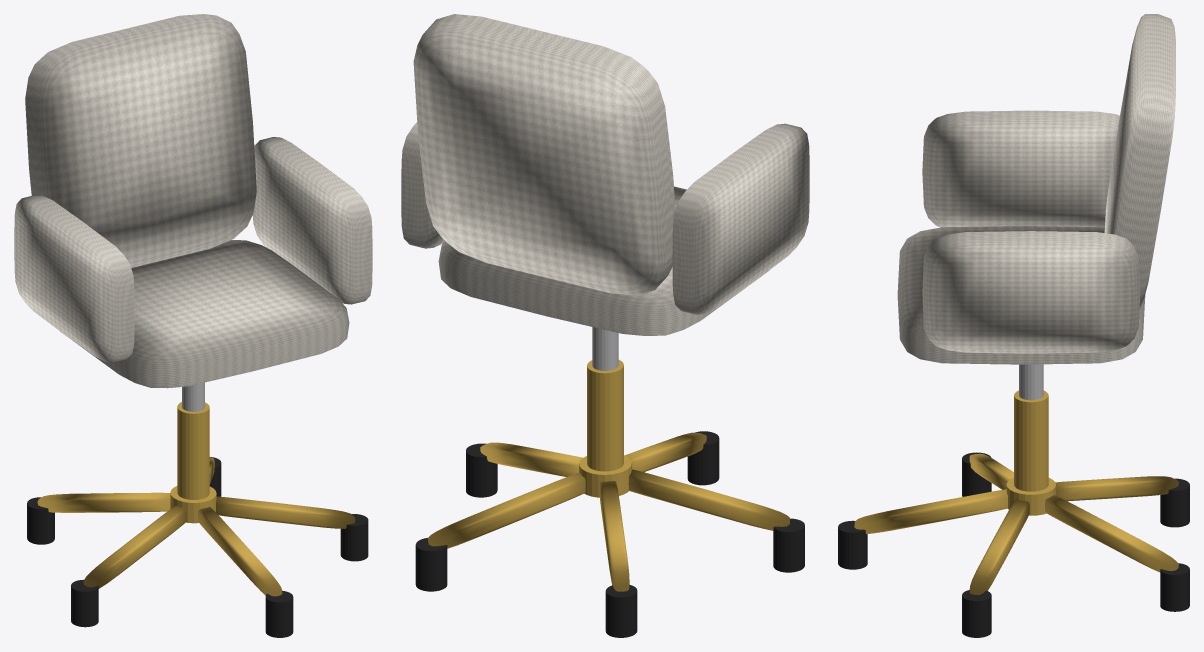
3 views of the same model, side by side, from view 1: azimuth 30°, elevation 25°; view 2: azimuth 150°, elevation 25°; view 3: azimuth 270°, elevation 25° (orthographic). The views are drawn at different scales.
Visible parts, largest first — view 1: 2 backrest, 1 seat, 3 left_armrest, 4 right_armrest, 7 gas_lift_lower, 10 base_spoke_2, 12 base_spoke_4, 13 base_spoke_5, 9 base_spoke_1, 14 wheel_1, 18 wheel_5, 15 wheel_2 (+3 smaller); view 2: 2 backrest, 3 left_armrest, 1 seat, 7 gas_lift_lower, 11 base_spoke_3, 13 base_spoke_5, 4 right_armrest, 12 base_spoke_4, 10 base_spoke_2, 9 base_spoke_1, 17 wheel_4, 16 wheel_3 (+5 smaller); view 3: 4 right_armrest, 3 left_armrest, 2 backrest, 1 seat, 7 gas_lift_lower, 9 base_spoke_1, 11 base_spoke_3, 12 base_spoke_4, 10 base_spoke_2, 15 wheel_2, 14 wheel_1, 16 wheel_3 (+5 smaller).
Boxes of the visible parts, left/top/right/bottom form: 2 backrest: left=25, top=14, right=256, bottom=267; 1 seat: left=61, top=240, right=349, bottom=388; 3 left_armrest: left=14, top=195, right=134, bottom=362; 4 right_armrest: left=252, top=137, right=372, bottom=304; 7 gas_lift_lower: left=177, top=402, right=209, bottom=499; 10 base_spoke_2: left=216, top=496, right=355, bottom=528; 12 base_spoke_4: left=37, top=492, right=170, bottom=512; 13 base_spoke_5: left=83, top=506, right=187, bottom=588; 9 base_spoke_1: left=198, top=507, right=282, bottom=596; 14 wheel_1: left=265, top=590, right=293, bottom=637; 18 wheel_5: left=71, top=579, right=98, bottom=627; 15 wheel_2: left=340, top=514, right=368, bottom=561; 2 backrest: left=413, top=14, right=675, bottom=295; 3 left_armrest: left=672, top=123, right=809, bottom=314; 1 seat: left=438, top=186, right=769, bottom=335; 7 gas_lift_lower: left=587, top=360, right=623, bottom=471; 11 base_spoke_3: left=427, top=472, right=585, bottom=548; 13 base_spoke_5: left=628, top=469, right=789, bottom=530; 4 right_armrest: left=401, top=122, right=444, bottom=248; 12 base_spoke_4: left=599, top=481, right=629, bottom=591; 10 base_spoke_2: left=480, top=442, right=582, bottom=476; 9 base_spoke_1: left=625, top=432, right=706, bottom=471; 17 wheel_4: left=605, top=585, right=637, bottom=637; 16 wheel_3: left=415, top=538, right=447, bottom=591; 4 right_armrest: left=922, top=231, right=1140, bottom=353; 3 left_armrest: left=922, top=110, right=1119, bottom=227; 2 backrest: left=1104, top=14, right=1175, bottom=309; 1 seat: left=897, top=226, right=1145, bottom=364; 7 gas_lift_lower: left=1014, top=390, right=1048, bottom=491; 9 base_spoke_1: left=854, top=489, right=1007, bottom=534; 11 base_spoke_3: left=1045, top=495, right=1178, bottom=572; 12 base_spoke_4: left=1055, top=476, right=1178, bottom=501; 10 base_spoke_2: left=969, top=499, right=1029, bottom=594; 15 wheel_2: left=962, top=590, right=991, bottom=637; 14 wheel_1: left=838, top=520, right=867, bottom=569; 16 wheel_3: left=1160, top=563, right=1189, bottom=611.
Size of the model in its own units: 0.62 by 1 by 0.62.
4 materials, 1 textured.
